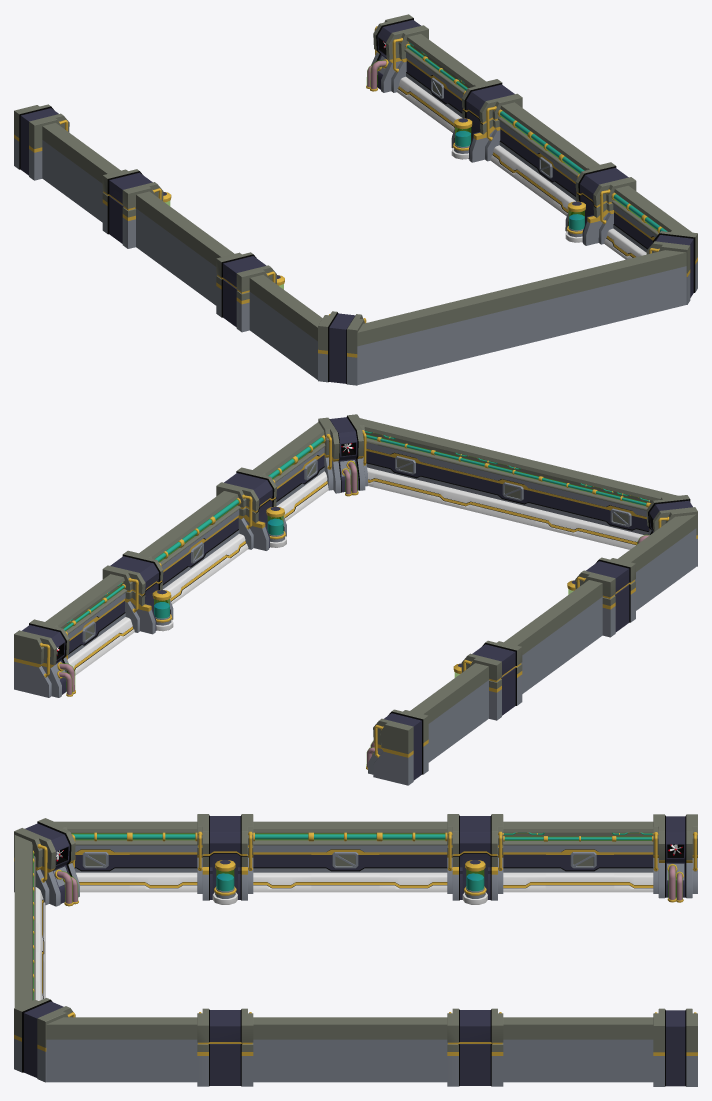
File: Level25.fbx
The picture shows the model from 3 angles, top to bottom: view 1: azimuth 30°, elevation 25°; view 2: azimuth 150°, elevation 25°; view 3: azimuth 270°, elevation 25°; orthographic projection. The views are drawn at different scales.
Parts seen in each view (by area): view 1: Base (×31), Bottle (×2); view 2: Base (×30), Bottle (×2); view 3: Base (×29), Pipe1 (×5), Bottle (×2), Cage (×3).
Part boxes in pixels (left/top/right/bottom): Base (×31): left=14, top=14, right=697, bottom=385; Bottle (×2): left=451, top=118, right=585, bottom=242; Base (×30): left=14, top=414, right=697, bottom=785; Bottle (×2): left=152, top=506, right=286, bottom=631; Base (×29): left=14, top=814, right=697, bottom=1086; Pipe1 (×5): left=71, top=832, right=447, bottom=841; Bottle (×2): left=212, top=860, right=487, bottom=904; Cage (×3): left=82, top=852, right=596, bottom=868.
Bounding box in the file's own units: 537 × 73.12 × 733.
